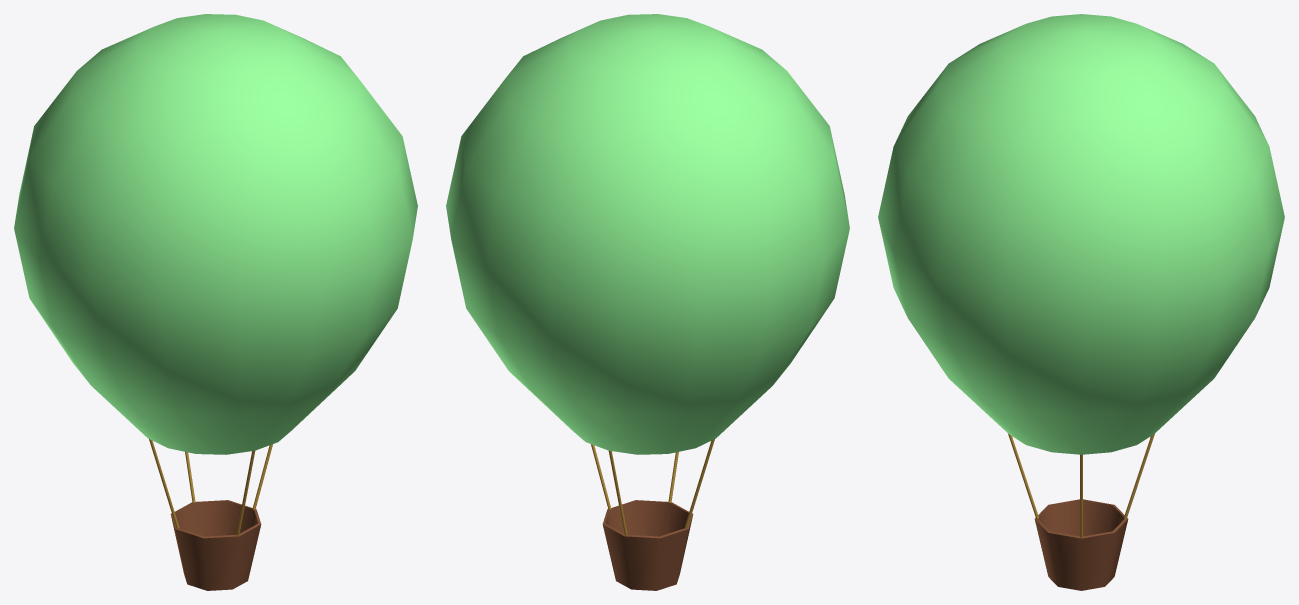
Rendered from Lv2_FB_Specialist.FBX.
The picture shows the model from 3 angles, left to right: view 1: azimuth 30°, elevation 25°; view 2: azimuth 150°, elevation 25°; view 3: azimuth 270°, elevation 25°; orthographic projection.
Parts seen in each view (by area): view 1: Sphere001, Cylinder001, Line003; view 2: Sphere001, Cylinder001, Line003; view 3: Sphere001, Cylinder001, Line003.
Part boxes in pixels (left/top/right/bottom): Sphere001: left=14, top=14, right=417, bottom=454; Cylinder001: left=170, top=500, right=261, bottom=590; Line003: left=149, top=439, right=272, bottom=535; Sphere001: left=446, top=14, right=849, bottom=454; Cylinder001: left=602, top=500, right=693, bottom=590; Line003: left=591, top=439, right=714, bottom=535; Sphere001: left=878, top=14, right=1284, bottom=454; Cylinder001: left=1034, top=499, right=1128, bottom=590; Line003: left=1008, top=434, right=1154, bottom=537.
Size of the model in its own units: 130 by 192 by 130.
